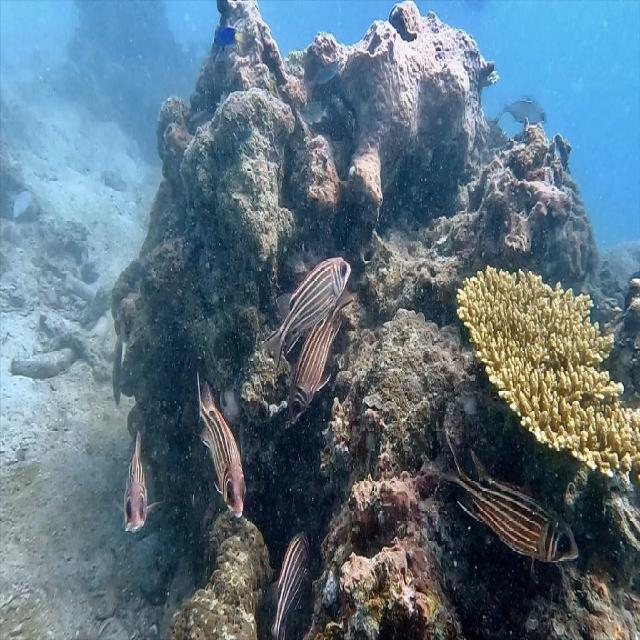Asker Baligi: (259, 253, 355, 428), (436, 462, 577, 575), (194, 368, 247, 519), (117, 436, 158, 542)
